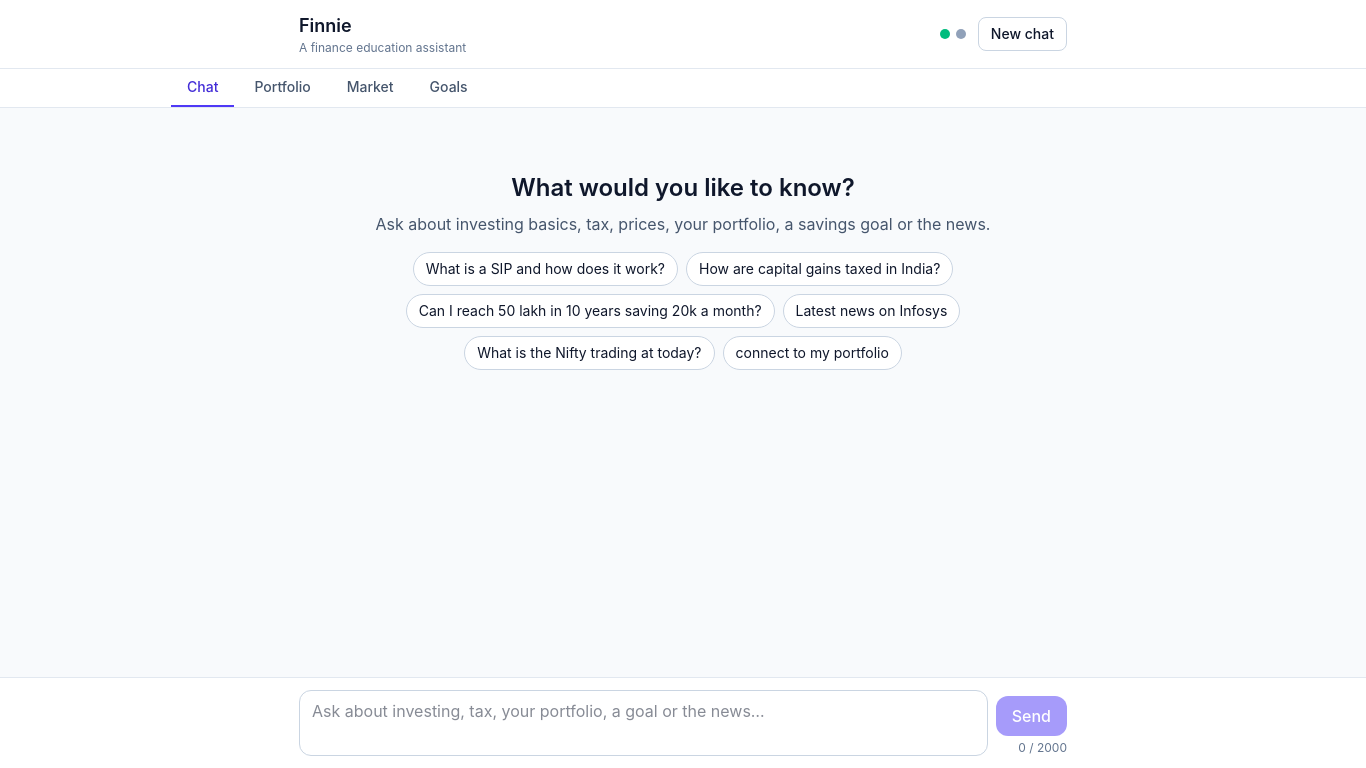
Scenario: App › answers a typed question and hides the suggestions
Type "What is a SIP?" into the text box. click: (643, 723)
box: [299, 690, 988, 756]
Then press Enter
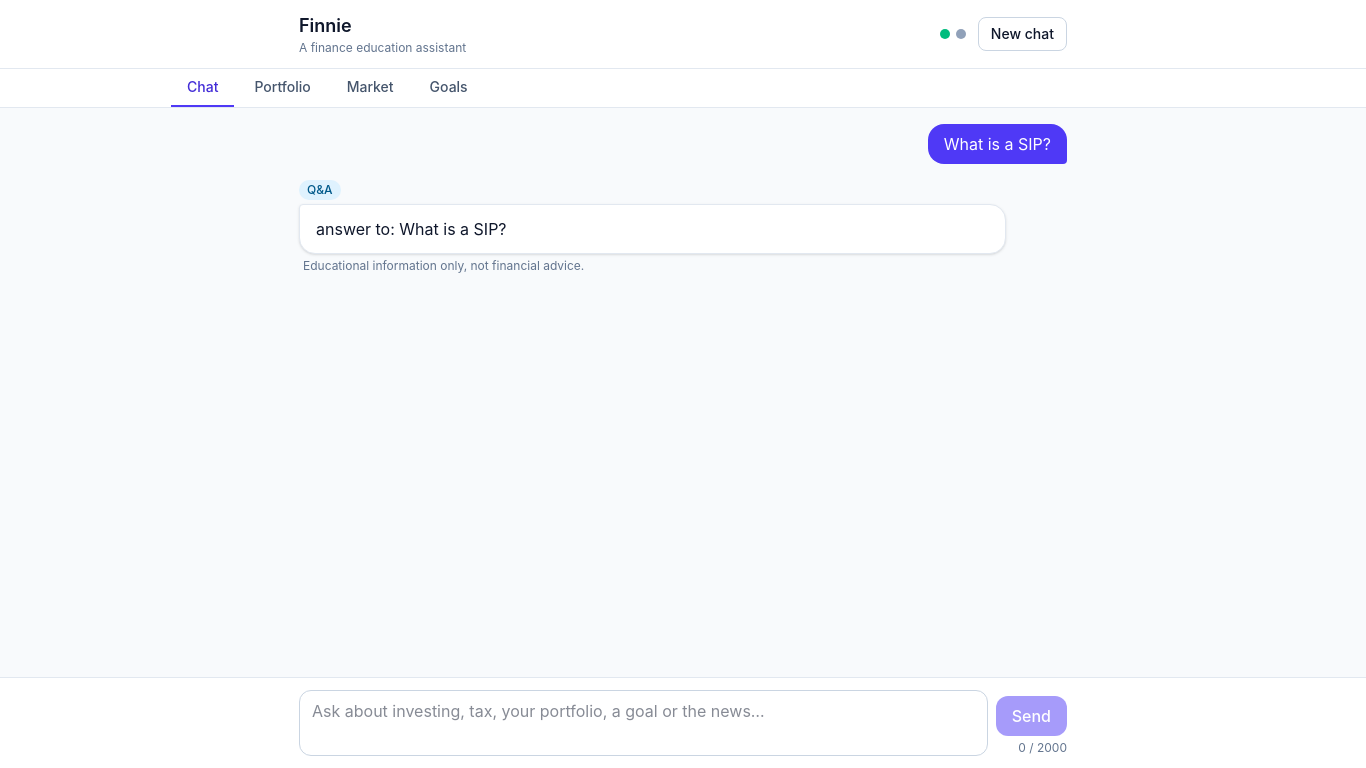
Expected: the text "answer to: What is a SIP?" is shown, [316, 219, 506, 239]
Expected: the text "What is a SIP?" is shown, [944, 132, 1051, 156]
Expected: the heading "What would you like to know" is gone
